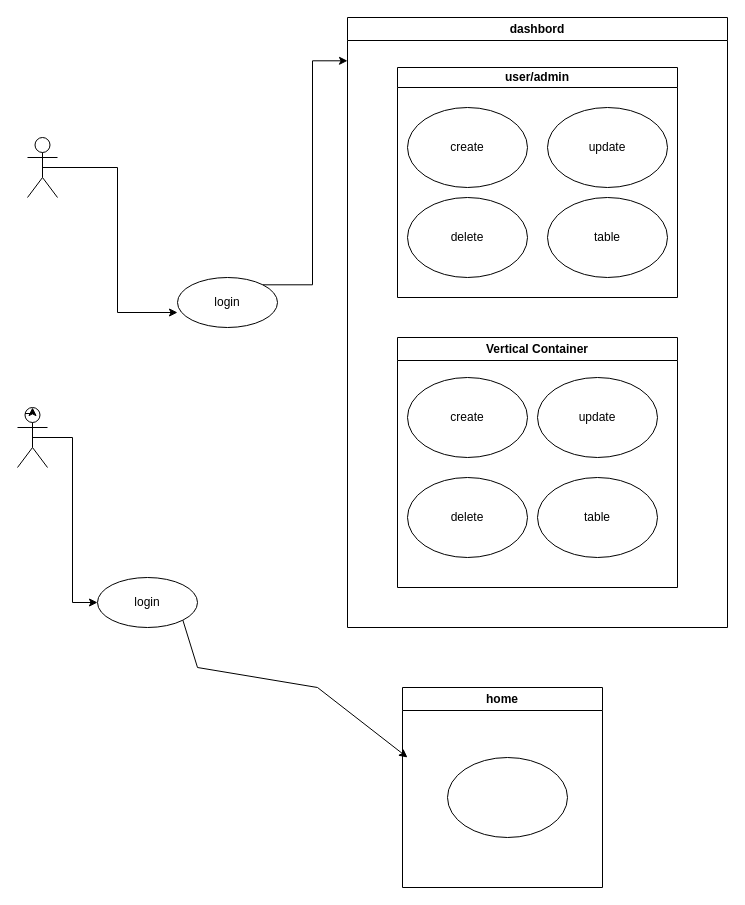
The diagram is 745 pixels wide and 905 high, and some of its shapes have lost their labels. The shapes that lost their labels are listed below. From the top down, each one's centre as x and y in pixels, then its label:
At pixel 42 167: "admin".
At pixel 32 437: "user".
At pixel 507 797: "view options".
